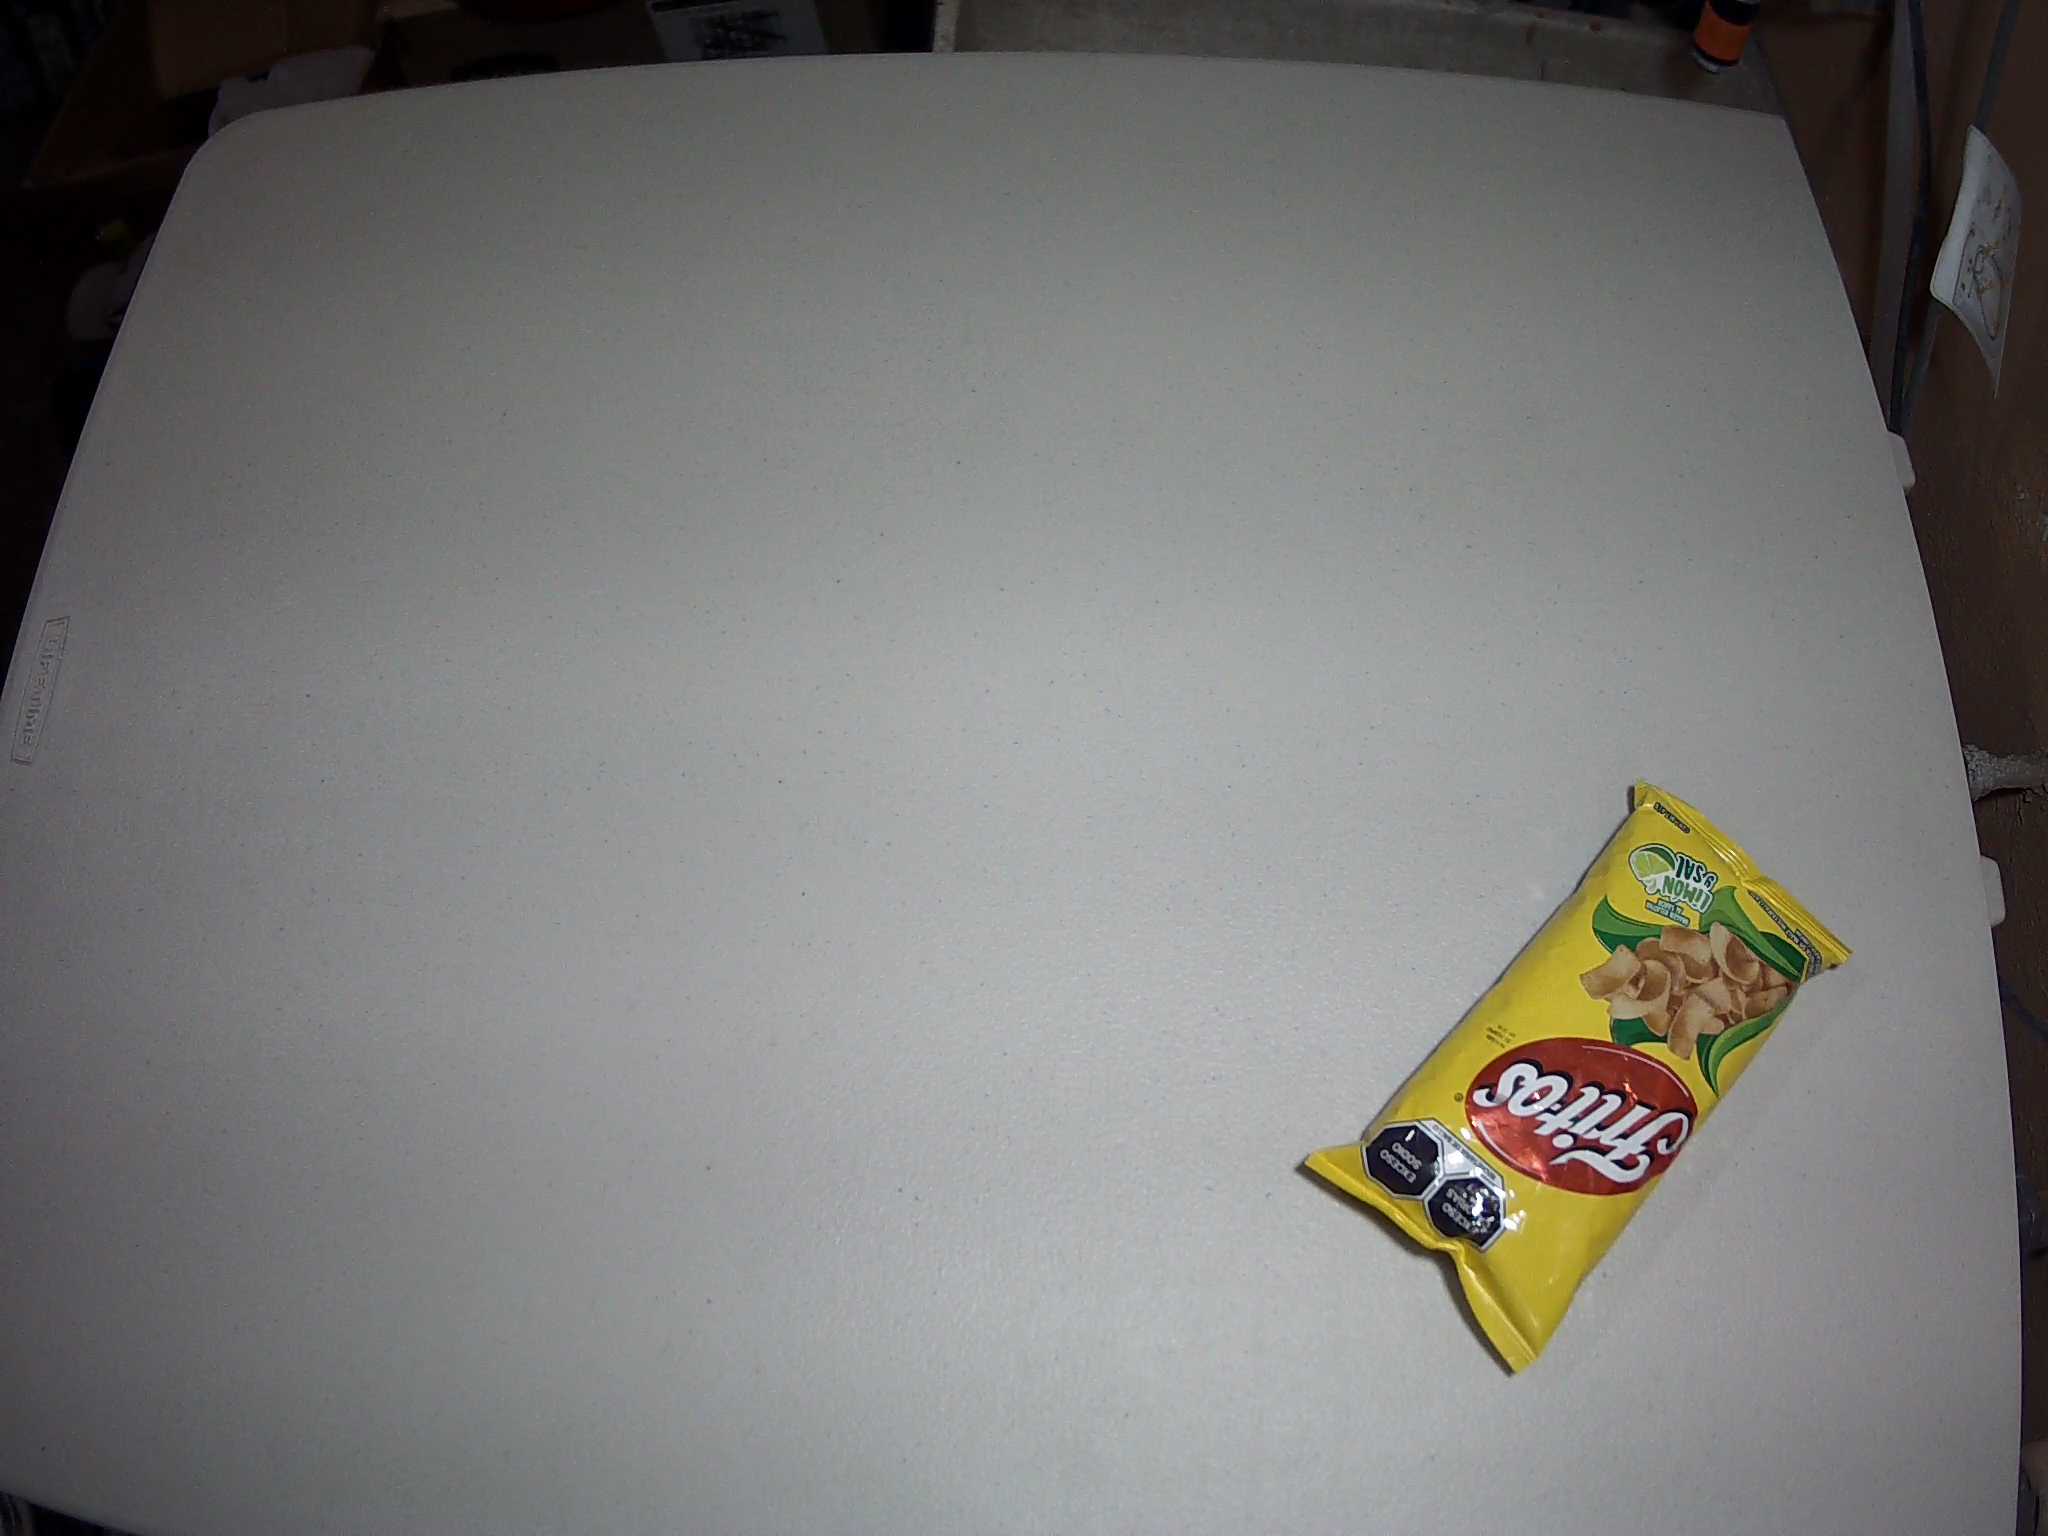FritosSalLimon_65_F: (1300, 778, 1854, 1376)
